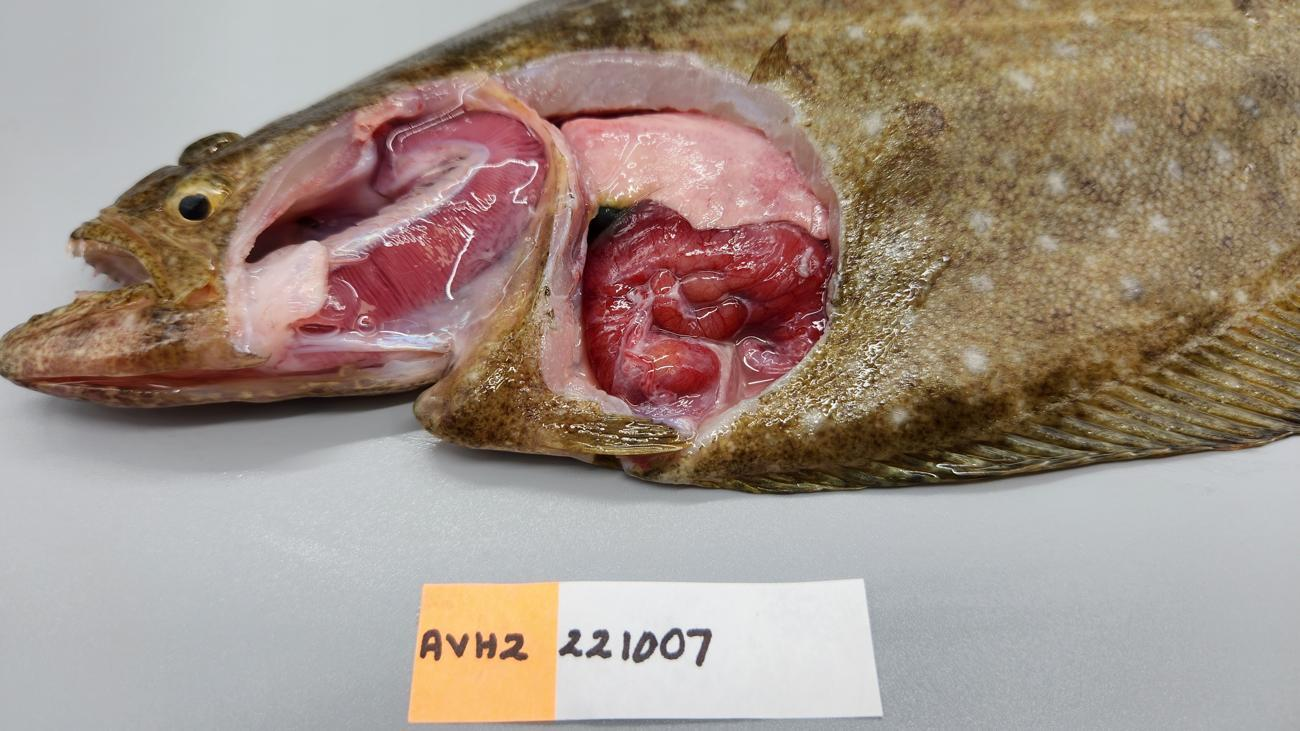VIGIP: (309, 111, 546, 322)
